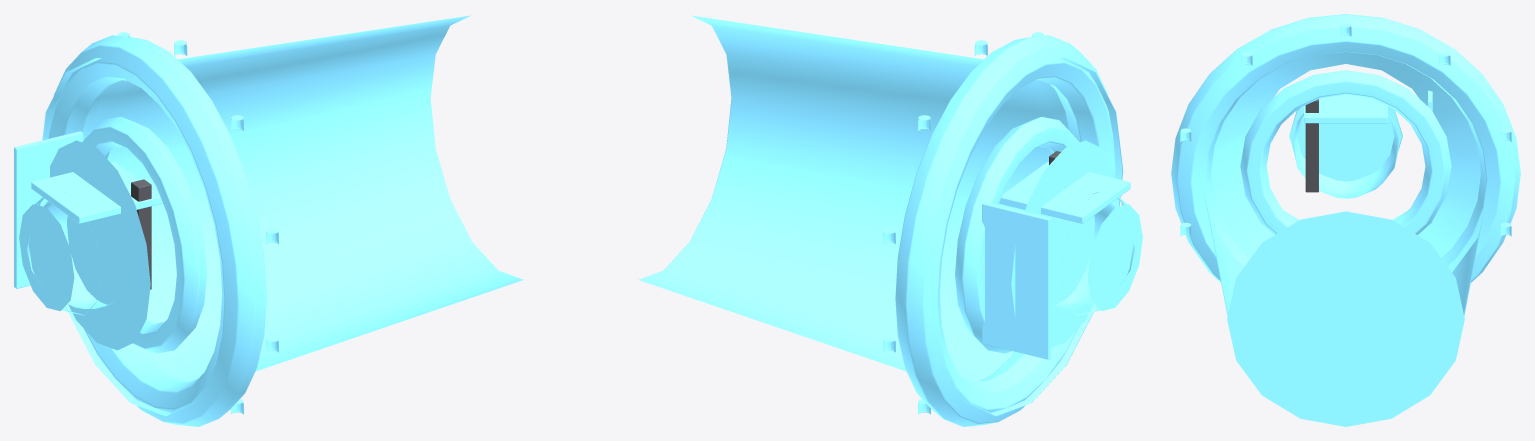
3 views of the same model, side by side, from view 1: azimuth 30°, elevation 25°; view 2: azimuth 150°, elevation 25°; view 3: azimuth 270°, elevation 25° (orthographic). The views are drawn at different scales.
Parts seen in each view (by area): view 1: LOD0_ENGINE_PLASMA_RING_MAIN, Plasma_Ring_Outer, HOOK_DRIVE_FAN, HOOK_DRIVE_PLUME, DET_corporate_polish_band, DET_fusion_coil_ring, HOOK_DRIVE_CORE, engine_plasma_ring_Material_Mechanical_Merged, DET_lattice_strut_a; view 2: LOD0_ENGINE_PLASMA_RING_MAIN, Plasma_Ring_Outer, DET_corporate_polish_band, HOOK_DRIVE_FAN, HOOK_DRIVE_PLUME, DET_fusion_coil_ring, HOOK_DRIVE_CORE, engine_plasma_ring_Material_Mechanical_Merged; view 3: LOD0_ENGINE_PLASMA_RING_MAIN, Plasma_Ring_Outer, HOOK_DRIVE_FAN, HOOK_DRIVE_PLUME, DET_fusion_coil_ring, HOOK_DRIVE_CORE, DET_lattice_strut_a, engine_plasma_ring_Material_Mechanical_Merged.
Boxes of the visible parts, box(x1,y1,x2,y2) form: LOD0_ENGINE_PLASMA_RING_MAIN: box(42, 15, 523, 416); Plasma_Ring_Outer: box(48, 35, 266, 426); HOOK_DRIVE_FAN: box(82, 117, 206, 353); HOOK_DRIVE_PLUME: box(19, 192, 97, 315); DET_corporate_polish_band: box(14, 131, 83, 288); DET_fusion_coil_ring: box(31, 162, 162, 223); HOOK_DRIVE_CORE: box(27, 201, 113, 308); engine_plasma_ring_Material_Mechanical_Merged: box(117, 32, 278, 414); DET_lattice_strut_a: box(131, 179, 151, 289); LOD0_ENGINE_PLASMA_RING_MAIN: box(638, 15, 1123, 416); Plasma_Ring_Outer: box(895, 35, 1115, 426); DET_corporate_polish_band: box(982, 202, 1051, 359); HOOK_DRIVE_FAN: box(955, 117, 1079, 353); HOOK_DRIVE_PLUME: box(1061, 192, 1142, 315); DET_fusion_coil_ring: box(999, 162, 1130, 223); HOOK_DRIVE_CORE: box(1052, 201, 1134, 308); engine_plasma_ring_Material_Mechanical_Merged: box(883, 32, 1044, 414); LOD0_ENGINE_PLASMA_RING_MAIN: box(1203, 52, 1488, 426); Plasma_Ring_Outer: box(1171, 14, 1520, 282); HOOK_DRIVE_FAN: box(1240, 70, 1451, 235); HOOK_DRIVE_PLUME: box(1289, 106, 1402, 181); DET_fusion_coil_ring: box(1304, 94, 1387, 123); HOOK_DRIVE_CORE: box(1293, 113, 1398, 198); DET_lattice_strut_a: box(1305, 99, 1318, 192); engine_plasma_ring_Material_Mechanical_Merged: box(1180, 23, 1511, 236).
Bounding box in the file's own units: 2.77 × 2.08 × 2.08.
